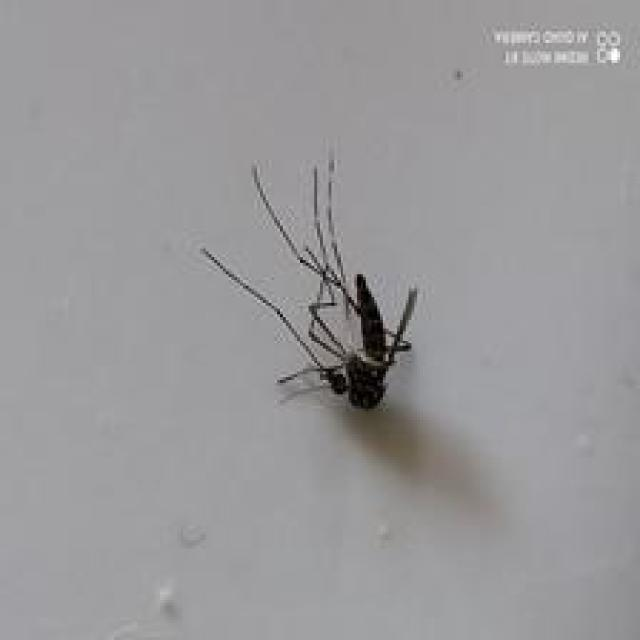Aedes albopictus: (198, 146, 422, 411)
